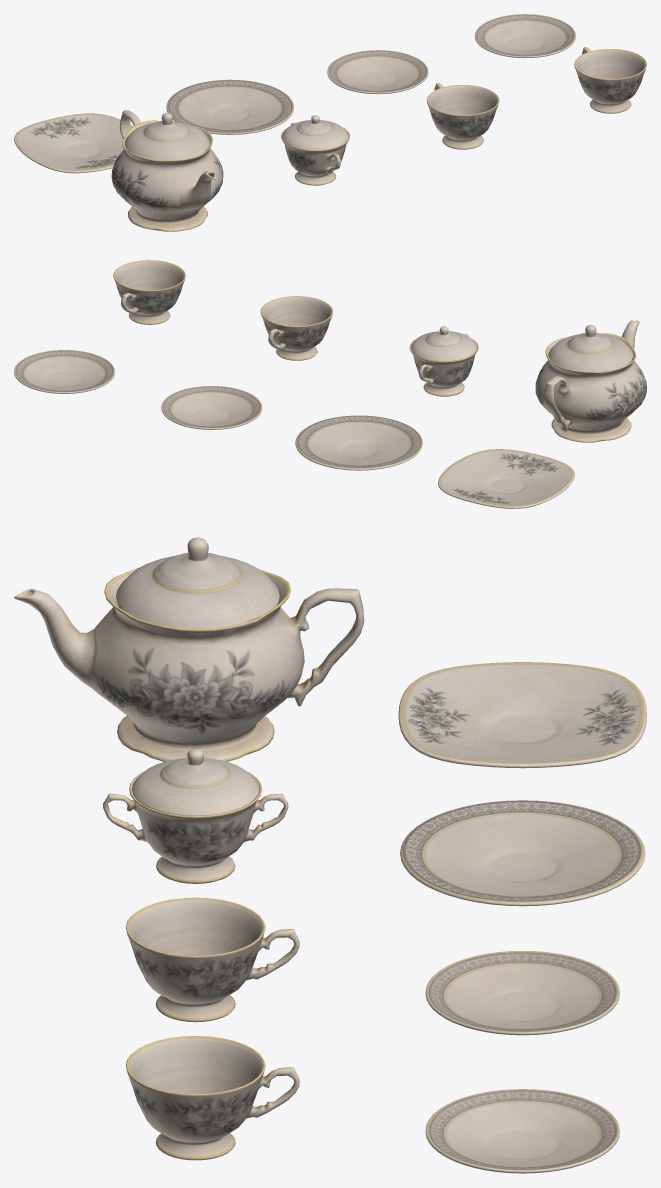
Rendered from tea_set_01_lod1.glb.
The picture shows the model from 3 angles, top to bottom: view 1: azimuth 30°, elevation 25°; view 2: azimuth 150°, elevation 25°; view 3: azimuth 270°, elevation 25°; orthographic projection. The views are drawn at different scales.
Parts seen in each view (by area): view 1: tea_set_01_teapot_01, tea_set_01_plate_large_circular_03, tea_set_01_plate_large_square_01, tea_set_01_cup_small_01, tea_set_01_cup_small_02, tea_set_01_saucer_circular_03, tea_set_01_saucer_circular_04, tea_set_01_teapot_01_lid, tea_set_01_sugar_cup_01, tea_set_01_sugar_cup_01_lid; view 2: tea_set_01_teapot_01, tea_set_01_plate_large_square_01, tea_set_01_plate_large_circular_03, tea_set_01_cup_small_01, tea_set_01_cup_small_02, tea_set_01_saucer_circular_04, tea_set_01_saucer_circular_03, tea_set_01_teapot_01_lid, tea_set_01_sugar_cup_01, tea_set_01_sugar_cup_01_lid; view 3: tea_set_01_teapot_01, tea_set_01_plate_large_square_01, tea_set_01_plate_large_circular_03, tea_set_01_cup_small_01, tea_set_01_cup_small_02, tea_set_01_saucer_circular_03, tea_set_01_saucer_circular_04, tea_set_01_teapot_01_lid, tea_set_01_sugar_cup_01, tea_set_01_sugar_cup_01_lid.
Part boxes in pixels (<box>): tea_set_01_teapot_01: <box>111,110,223,231</box>; tea_set_01_plate_large_circular_03: <box>166,79,294,134</box>; tea_set_01_plate_large_square_01: <box>14,113,133,173</box>; tea_set_01_cup_small_01: <box>426,83,499,149</box>; tea_set_01_cup_small_02: <box>574,47,646,113</box>; tea_set_01_saucer_circular_03: <box>474,14,575,58</box>; tea_set_01_saucer_circular_04: <box>327,50,428,94</box>; tea_set_01_teapot_01_lid: <box>124,113,209,160</box>; tea_set_01_sugar_cup_01: <box>281,122,349,185</box>; tea_set_01_sugar_cup_01_lid: <box>282,115,348,150</box>; tea_set_01_teapot_01: <box>535,320,646,442</box>; tea_set_01_plate_large_square_01: <box>438,449,574,508</box>; tea_set_01_plate_large_circular_03: <box>295,415,422,470</box>; tea_set_01_cup_small_01: <box>260,296,332,360</box>; tea_set_01_cup_small_02: <box>113,260,185,324</box>; tea_set_01_saucer_circular_04: <box>161,386,262,429</box>; tea_set_01_saucer_circular_03: <box>14,350,114,393</box>; tea_set_01_teapot_01_lid: <box>548,324,633,371</box>; tea_set_01_sugar_cup_01: <box>409,333,478,396</box>; tea_set_01_sugar_cup_01_lid: <box>411,326,477,361</box>; tea_set_01_teapot_01: <box>14,568,364,761</box>; tea_set_01_plate_large_square_01: <box>398,662,646,768</box>; tea_set_01_plate_large_circular_03: <box>400,800,645,906</box>; tea_set_01_cup_small_01: <box>126,897,299,1022</box>; tea_set_01_cup_small_02: <box>126,1036,299,1160</box>; tea_set_01_saucer_circular_03: <box>425,1089,619,1173</box>; tea_set_01_saucer_circular_04: <box>425,950,619,1035</box>; tea_set_01_teapot_01_lid: <box>116,537,279,628</box>; tea_set_01_sugar_cup_01: <box>103,771,288,883</box>; tea_set_01_sugar_cup_01_lid: <box>131,748,259,815</box>.
Size of the model in its own units: 0.9185 by 0.165 by 0.4839.
1 material, 1 textured.
